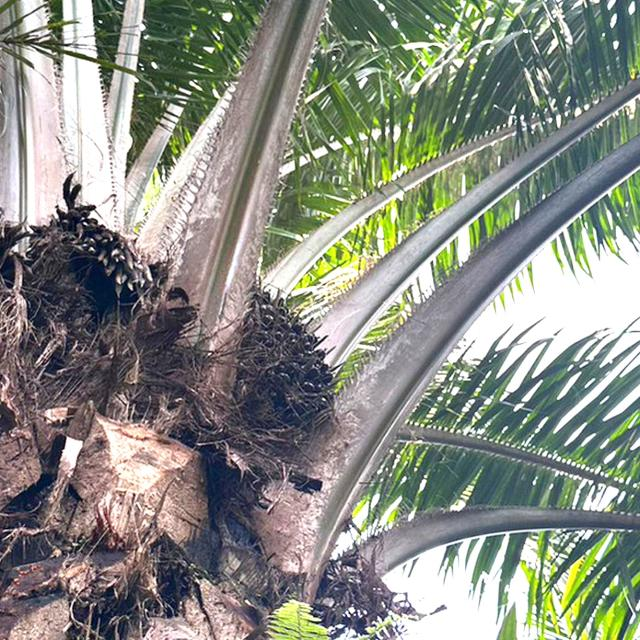unripe: (214, 277, 361, 450)
